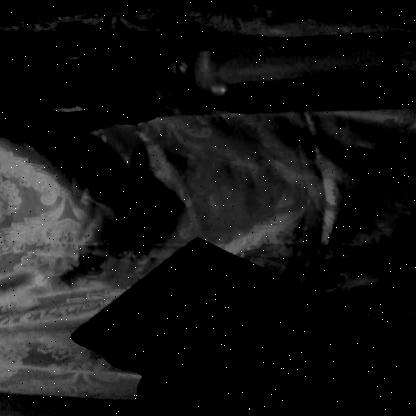Plastic Bottle: (40, 19, 408, 139)
